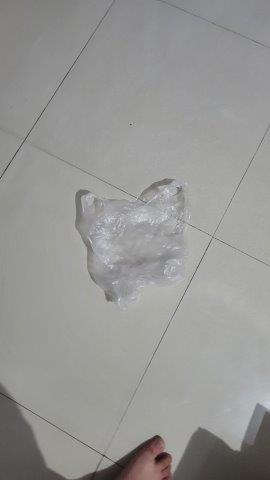plastik: (63, 183, 194, 305)
